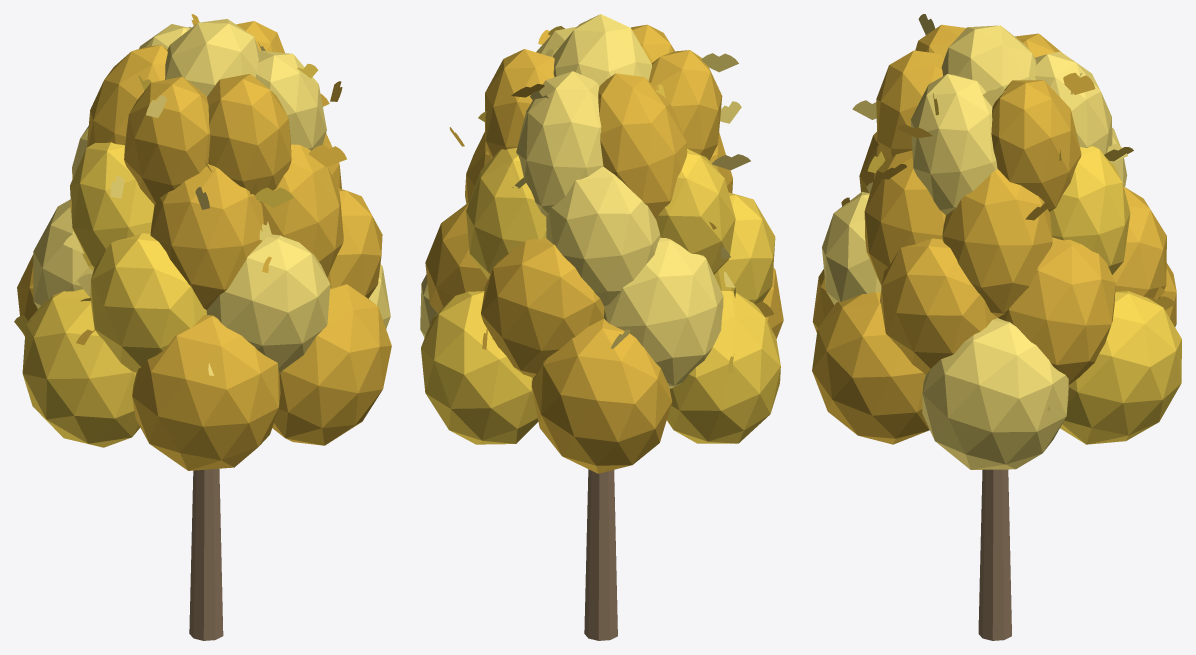
The model's file is SIMUS_Ginkgo_Autumn.glb.
The picture shows the model from 3 angles, left to right: view 1: azimuth 30°, elevation 25°; view 2: azimuth 150°, elevation 25°; view 3: azimuth 270°, elevation 25°; orthographic projection.
Parts seen in each view (by area): view 1: Ginkgo_Autumn Ginkgo gold 2, Ginkgo_Autumn Ginkgo gold 0, Ginkgo_Autumn Ginkgo gold 1, Ginkgo_Autumn Warm bark; view 2: Ginkgo_Autumn Ginkgo gold 2, Ginkgo_Autumn Ginkgo gold 0, Ginkgo_Autumn Ginkgo gold 1, Ginkgo_Autumn Warm bark; view 3: Ginkgo_Autumn Ginkgo gold 2, Ginkgo_Autumn Ginkgo gold 1, Ginkgo_Autumn Ginkgo gold 0, Ginkgo_Autumn Warm bark.
Part boxes in pixels (bbox=[...]): Ginkgo_Autumn Ginkgo gold 2: bbox=[17, 14, 391, 470]; Ginkgo_Autumn Ginkgo gold 0: bbox=[14, 63, 318, 447]; Ginkgo_Autumn Ginkgo gold 1: bbox=[33, 19, 390, 375]; Ginkgo_Autumn Warm bark: bbox=[189, 468, 223, 640]; Ginkgo_Autumn Ginkgo gold 2: bbox=[425, 24, 783, 473]; Ginkgo_Autumn Ginkgo gold 0: bbox=[421, 26, 780, 444]; Ginkgo_Autumn Ginkgo gold 1: bbox=[420, 14, 750, 388]; Ginkgo_Autumn Warm bark: bbox=[584, 469, 617, 640]; Ginkgo_Autumn Ginkgo gold 2: bbox=[812, 24, 1176, 444]; Ginkgo_Autumn Ginkgo gold 1: bbox=[822, 14, 1127, 469]; Ginkgo_Autumn Ginkgo gold 0: bbox=[867, 93, 1181, 444]; Ginkgo_Autumn Warm bark: bbox=[978, 469, 1011, 640].
Size of the model in its own units: 4.11 by 7.01 by 3.86.
